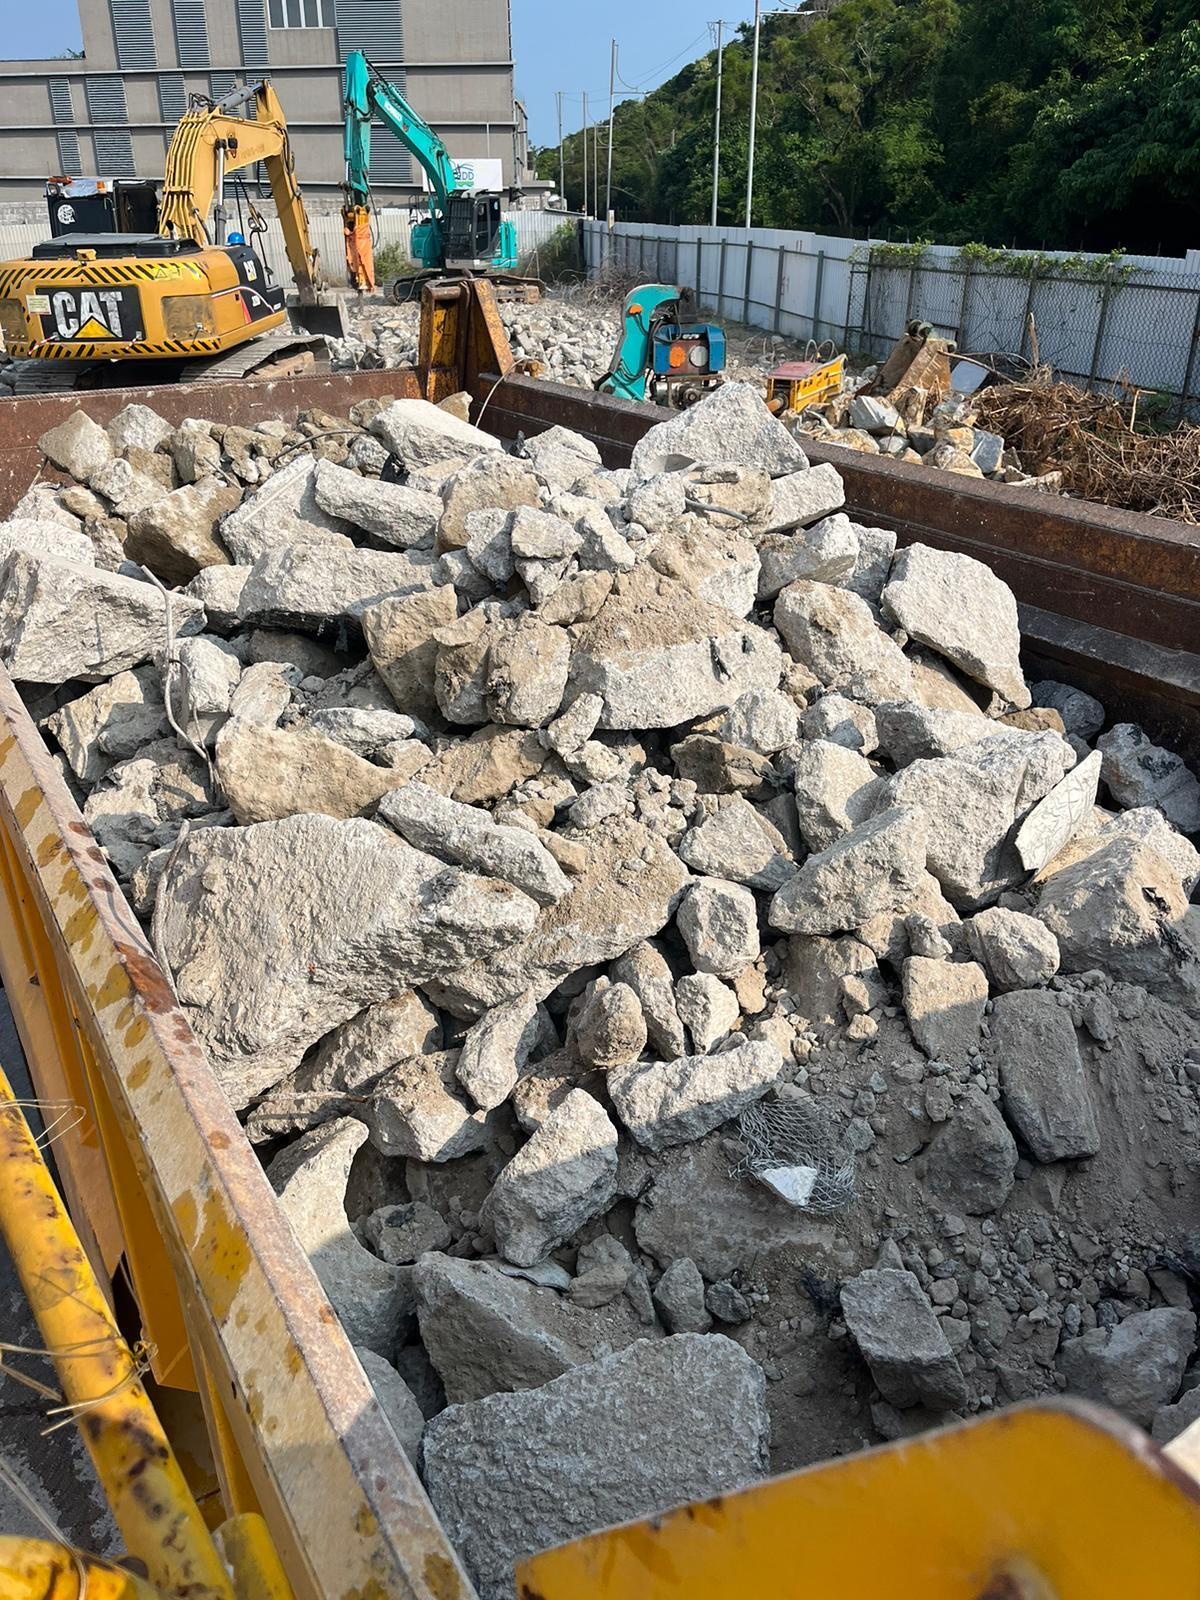dry: (0, 391, 1182, 1545)
